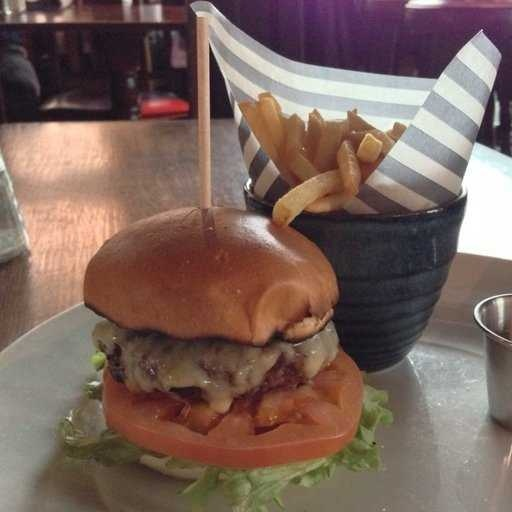hamburger: (66, 204, 366, 478)
